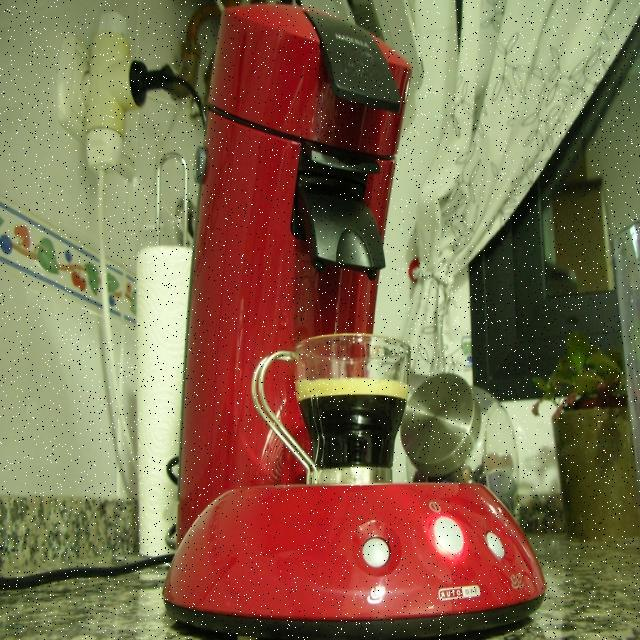Coffee-Machine: (143, 0, 562, 640)
